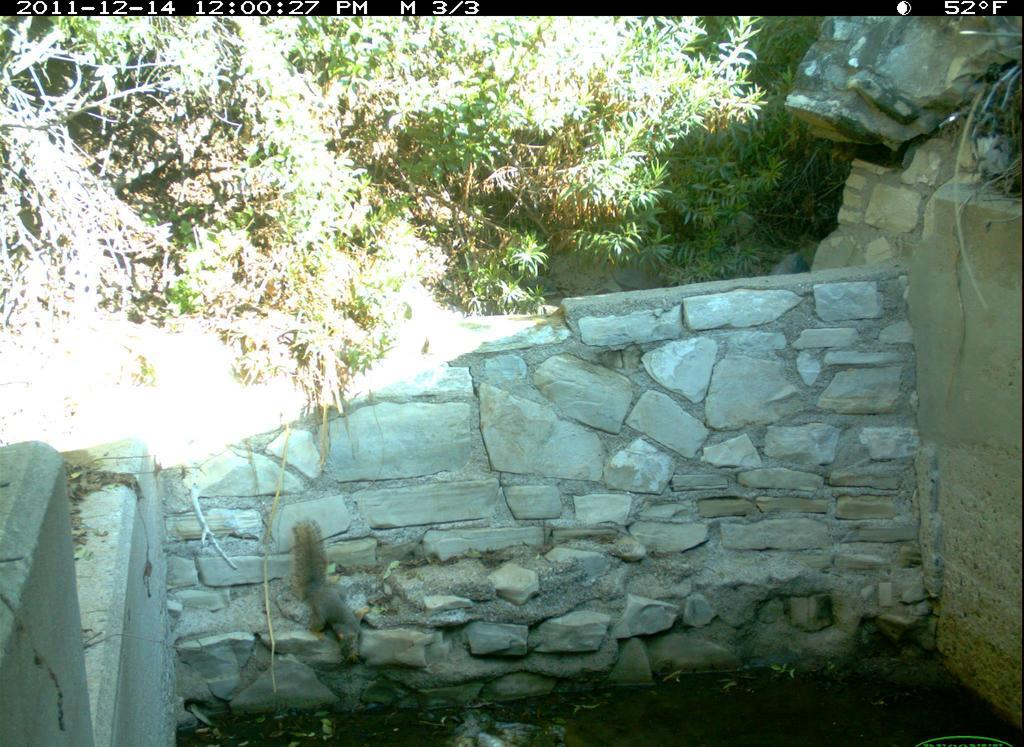squirrel: (286, 498, 383, 662)
